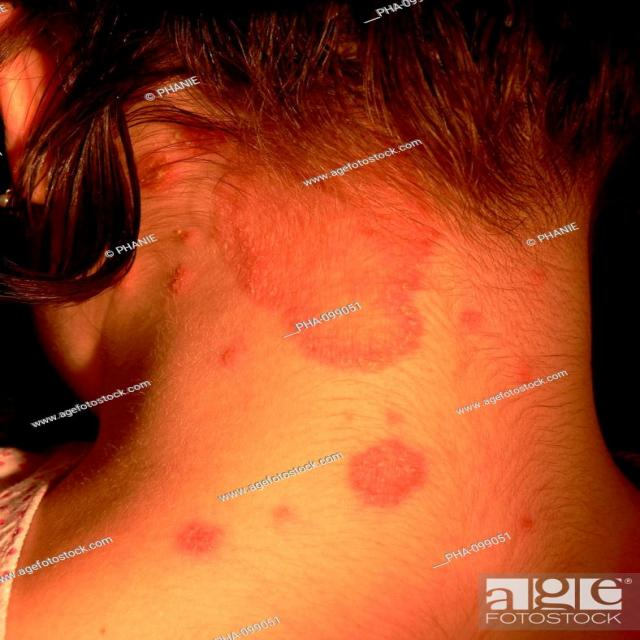tinea: (215, 157, 432, 371), (346, 442, 436, 513)
